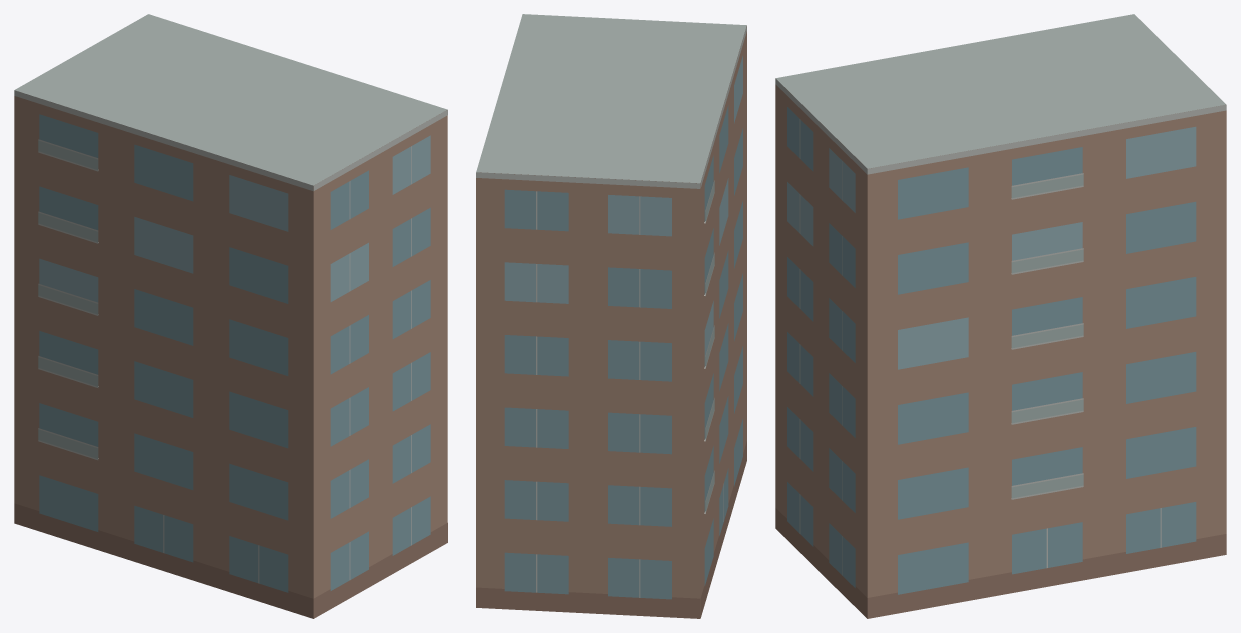
Rendered from survey-upis-32997963.glb.
3 renders of one model, left to right at view 1: azimuth 30°, elevation 25°; view 2: azimuth 150°, elevation 25°; view 3: azimuth 270°, elevation 25°, orthographic. The views are drawn at different scales.
Visible parts, largest first — view 1: survey-upis-32997963.tmp; view 2: survey-upis-32997963.tmp; view 3: survey-upis-32997963.tmp.
Part boxes in pixels (x1=…): survey-upis-32997963.tmp: x1=14, y1=14, x2=447, y2=618; survey-upis-32997963.tmp: x1=476, y1=14, x2=746, y2=618; survey-upis-32997963.tmp: x1=775, y1=14, x2=1226, y2=618.
Bounding box in the file's own units: 13.79 × 18.7 × 17.
